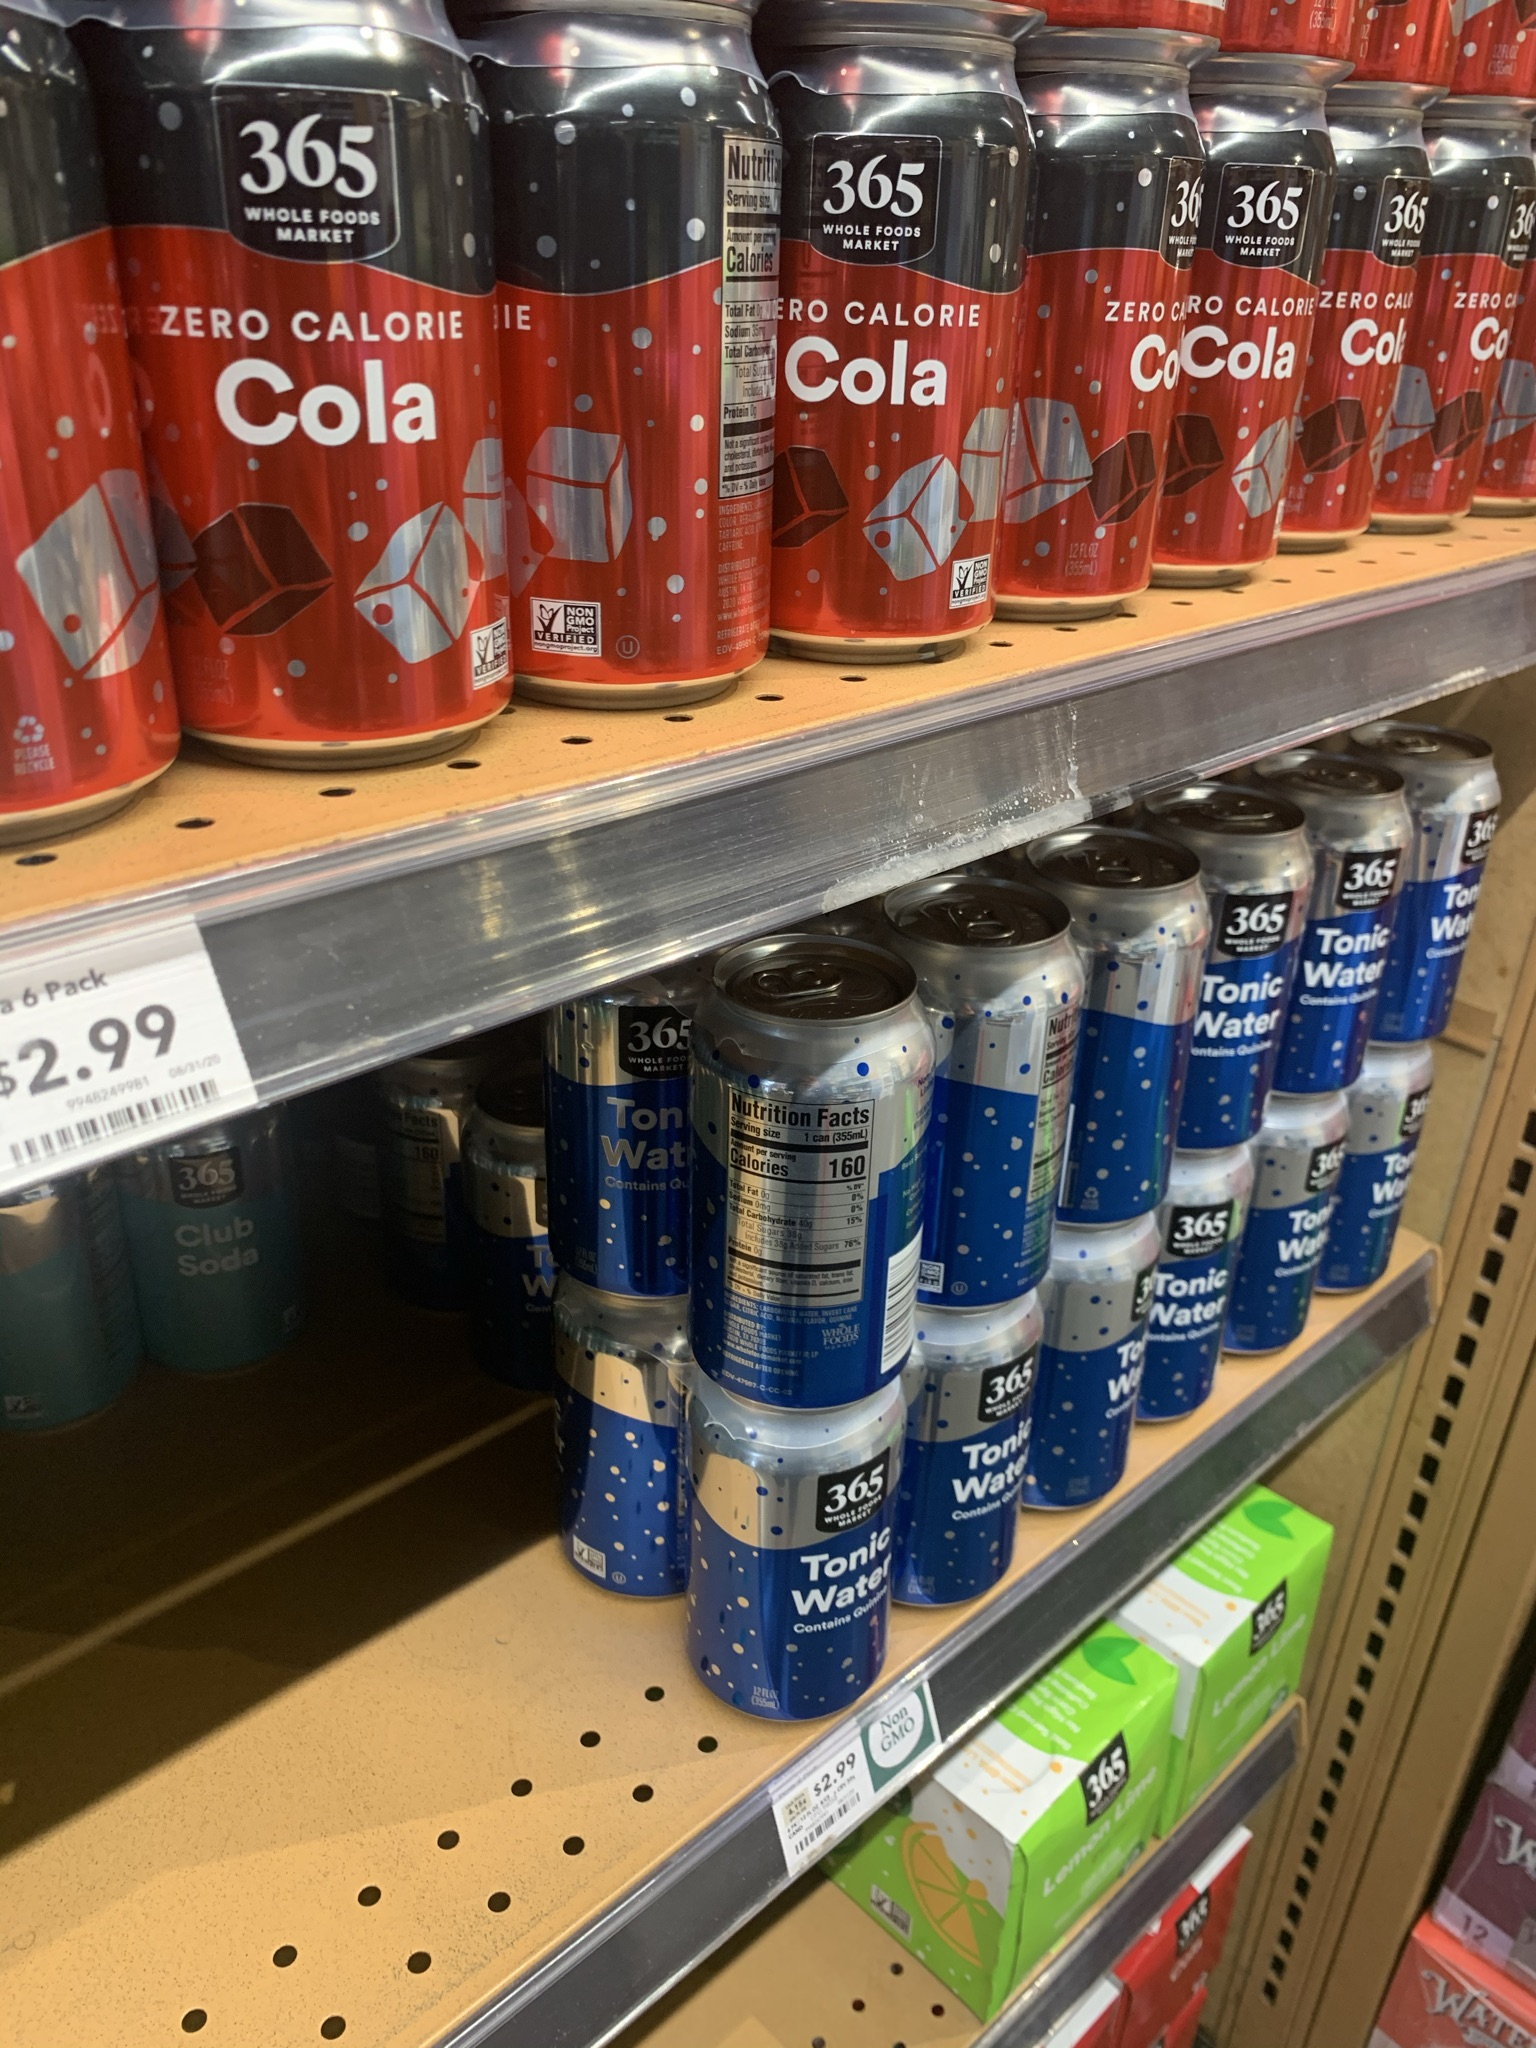can: (161, 2, 486, 714), (520, 3, 760, 666), (791, 15, 999, 622), (716, 990, 899, 1367), (1050, 66, 1165, 600), (708, 1426, 870, 1693), (1213, 94, 1284, 561), (960, 966, 1049, 1292), (1091, 908, 1173, 1205), (931, 1330, 1007, 1585), (1309, 805, 1367, 1092), (1070, 1255, 1126, 1500), (1220, 851, 1265, 1143), (1417, 780, 1459, 1035), (1271, 1126, 1312, 1330), (1183, 1180, 1217, 1408)
